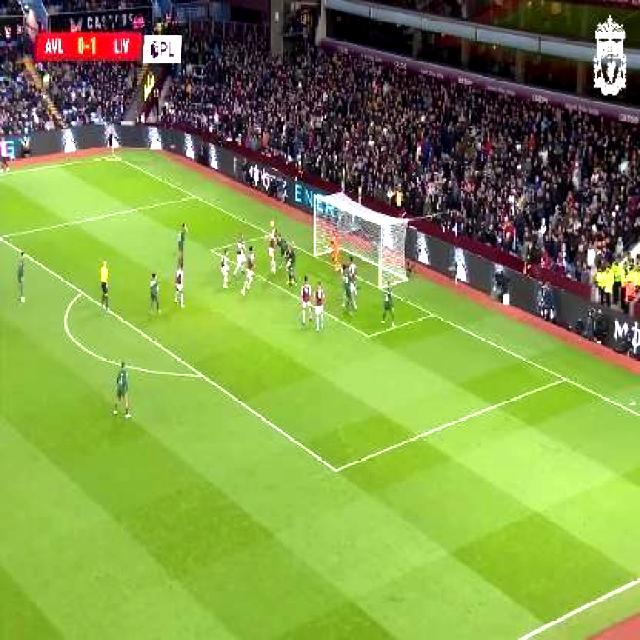bigarea_bottom_inner: (325, 455, 346, 483)
bigarea_bottom_outter: (557, 368, 571, 386)
bigarea_top_inner: (0, 225, 8, 246)
bigarea_top_outter: (188, 188, 200, 203)
bottom_arc_area_intersection: (191, 362, 211, 386)
corner: (105, 149, 120, 163)
smallarea_bottom_inner: (360, 323, 377, 346)
smallarea_bottom_outter: (423, 303, 440, 323)
smallarea_top_inner: (203, 238, 219, 258)
smallarea_top_outter: (265, 226, 277, 242)
top_arc_area_intersection: (72, 280, 88, 300)
